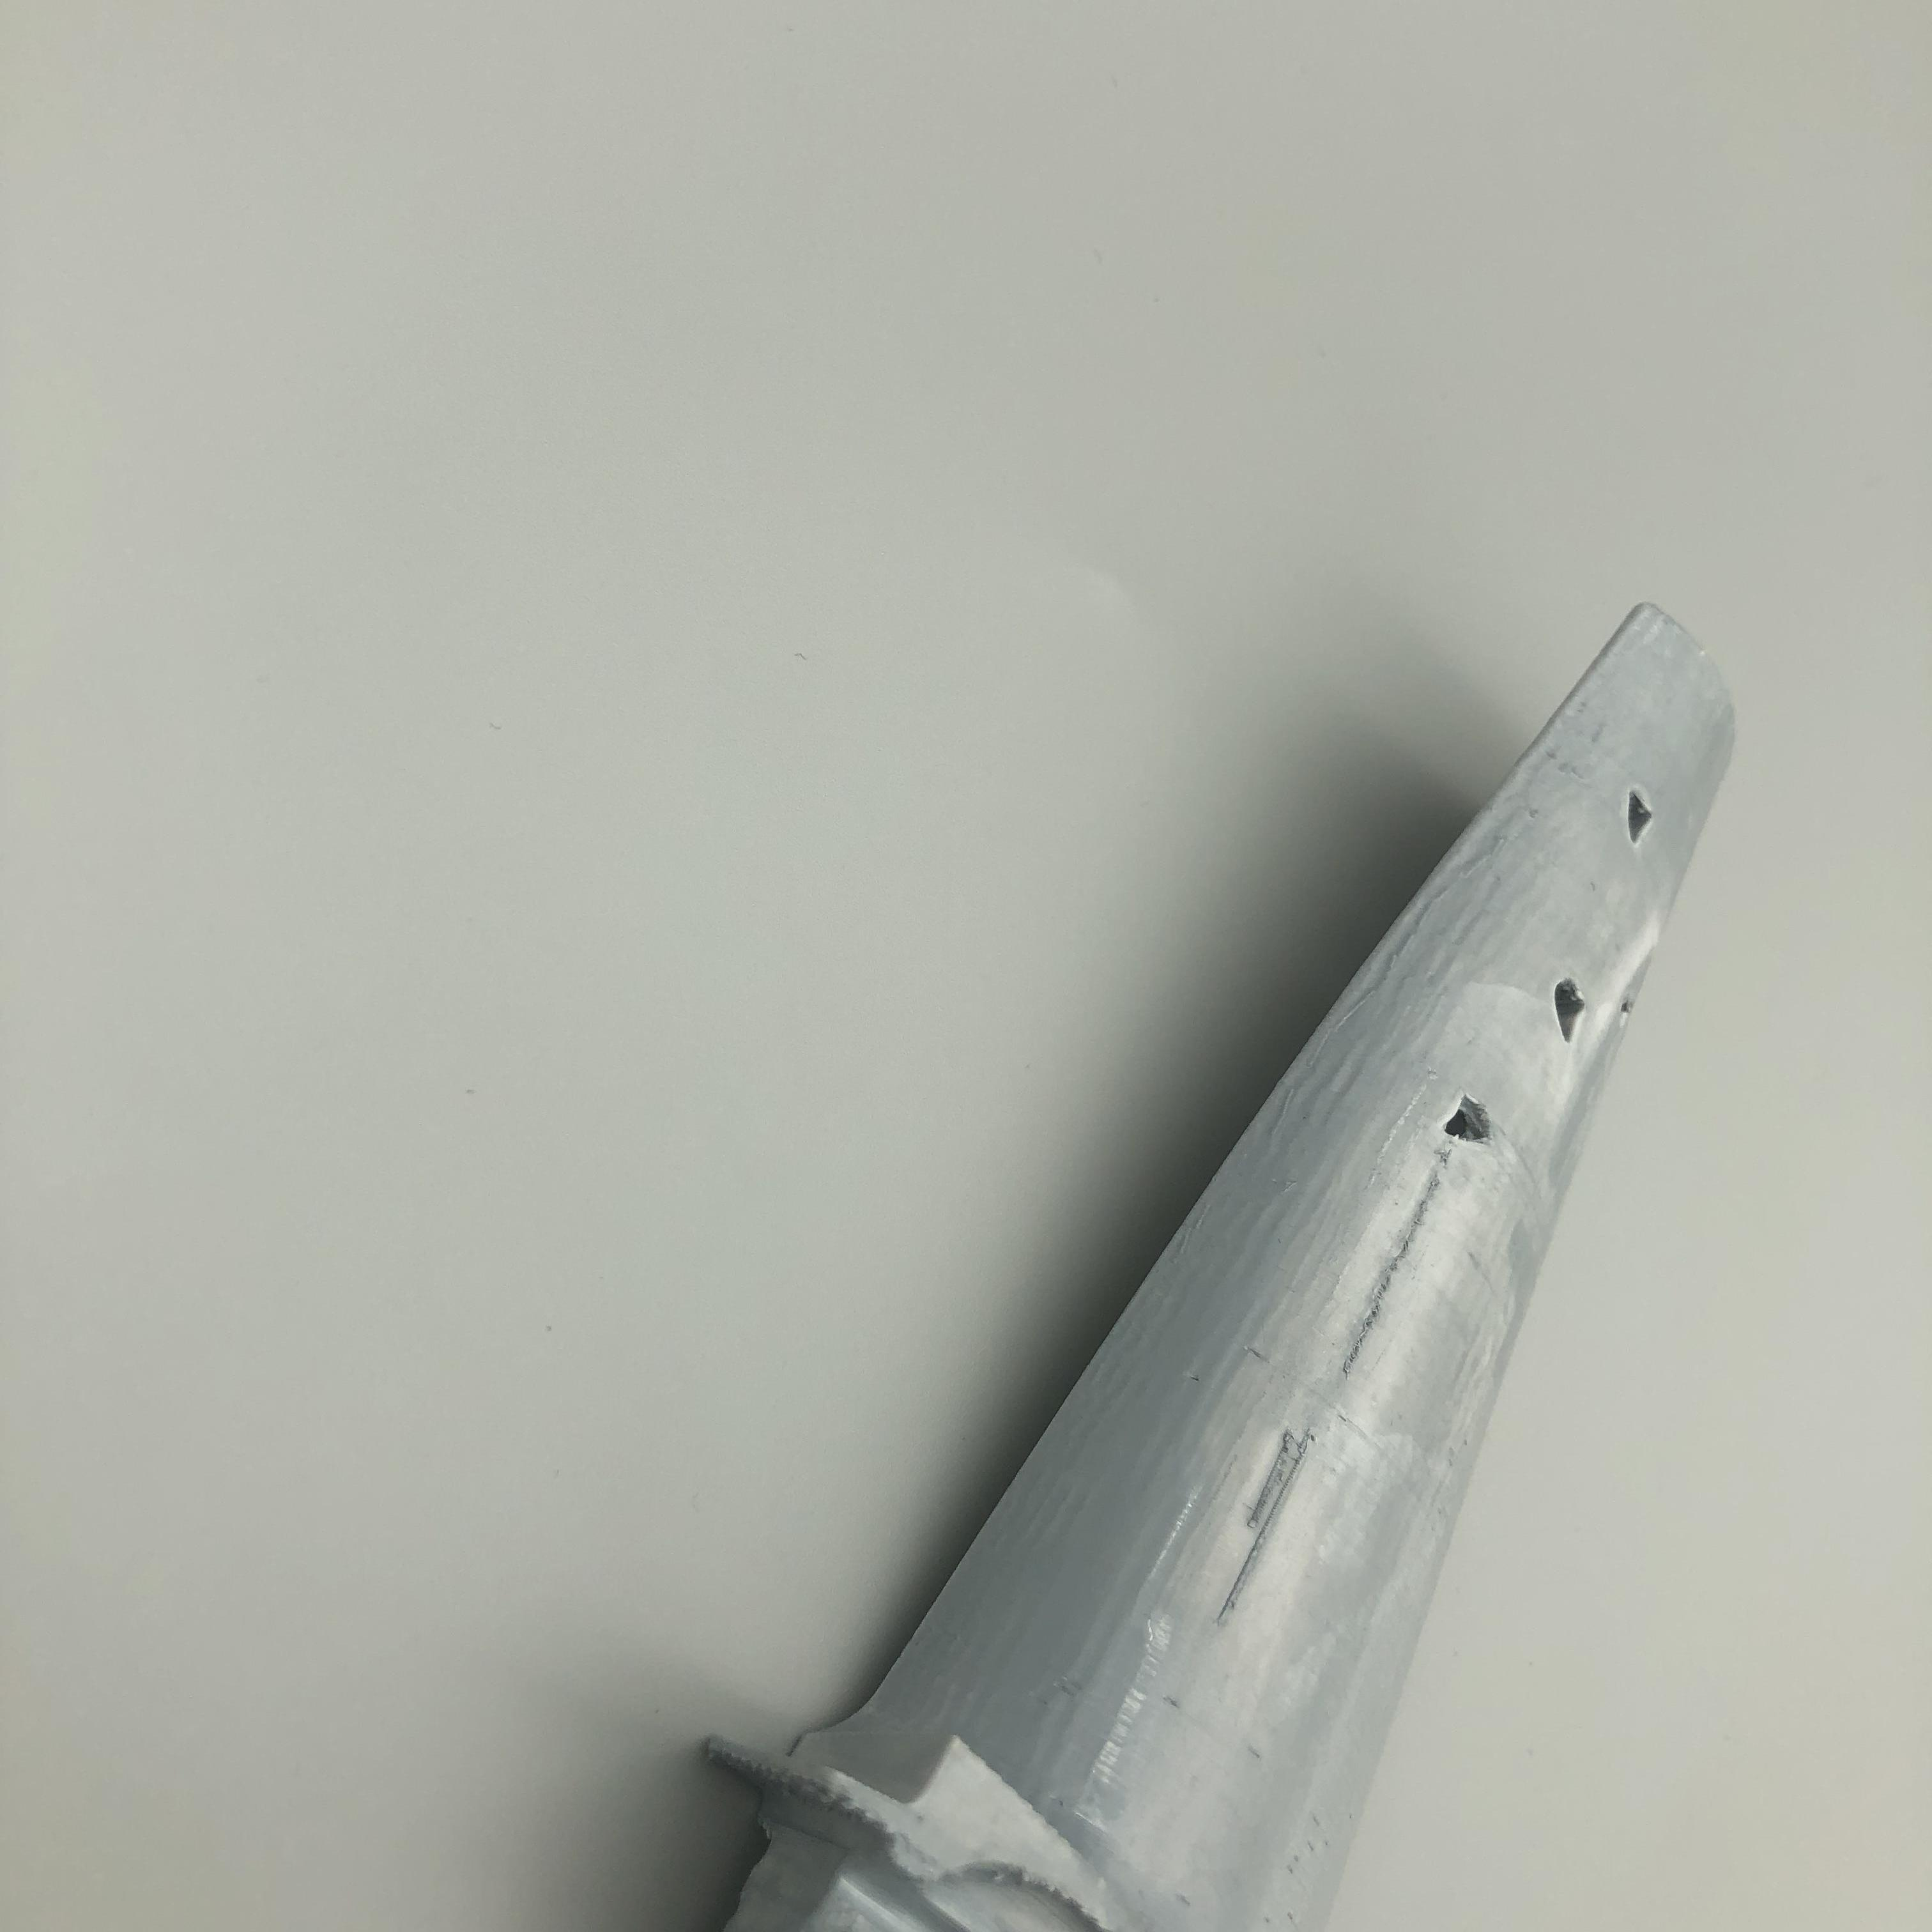breakdown: (1456, 968, 1615, 1152), (1614, 770, 1693, 862)
